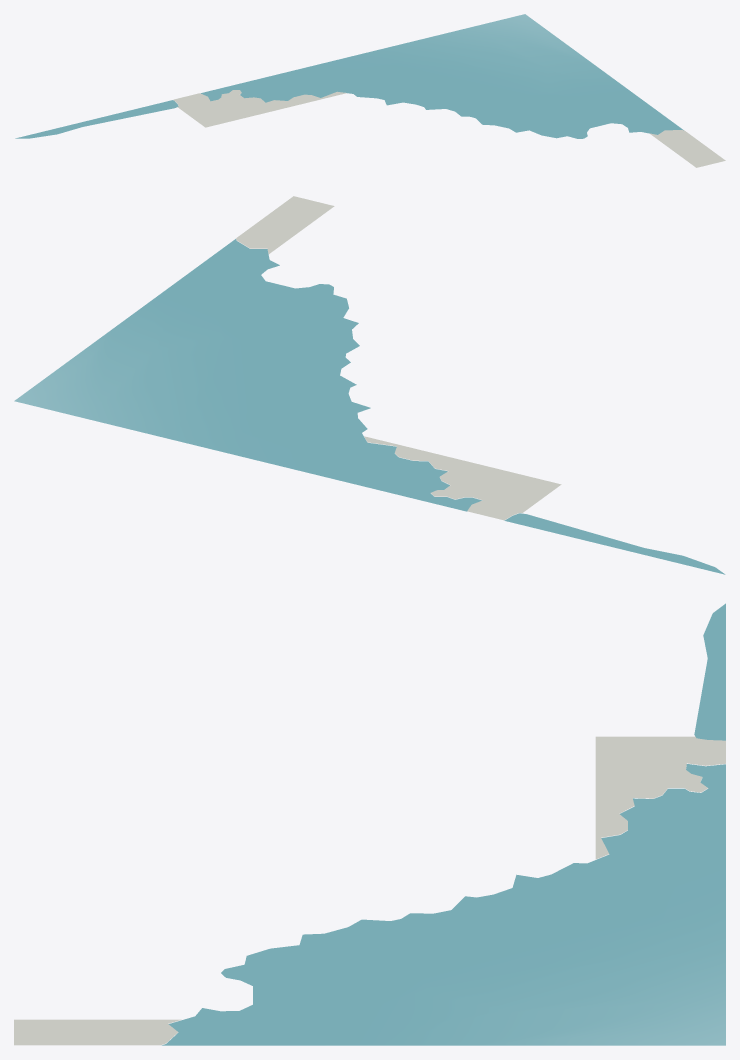
3 views of the same model, one above another, from view 1: azimuth 30°, elevation 25°; view 2: azimuth 150°, elevation 25°; view 3: azimuth 270°, elevation 25° (orthographic). The views are drawn at different scales.
Visible parts, largest first — view 1: city; view 2: city; view 3: city.
Part boxes in pixels (x1,y1,x2,y2): city: (15,14,725,167); city: (14,196,725,574); city: (14,603,725,1045).
Bounding box in the file's own units: 391 × 0.18 × 266.
